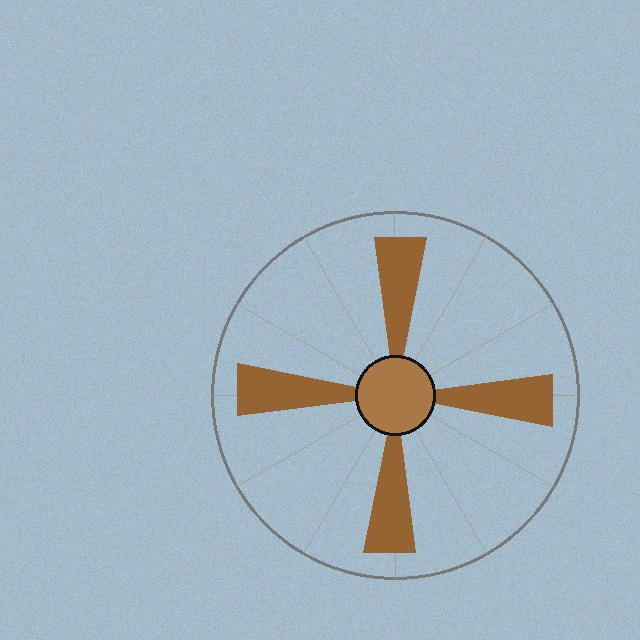fan: (207, 207, 583, 583)
